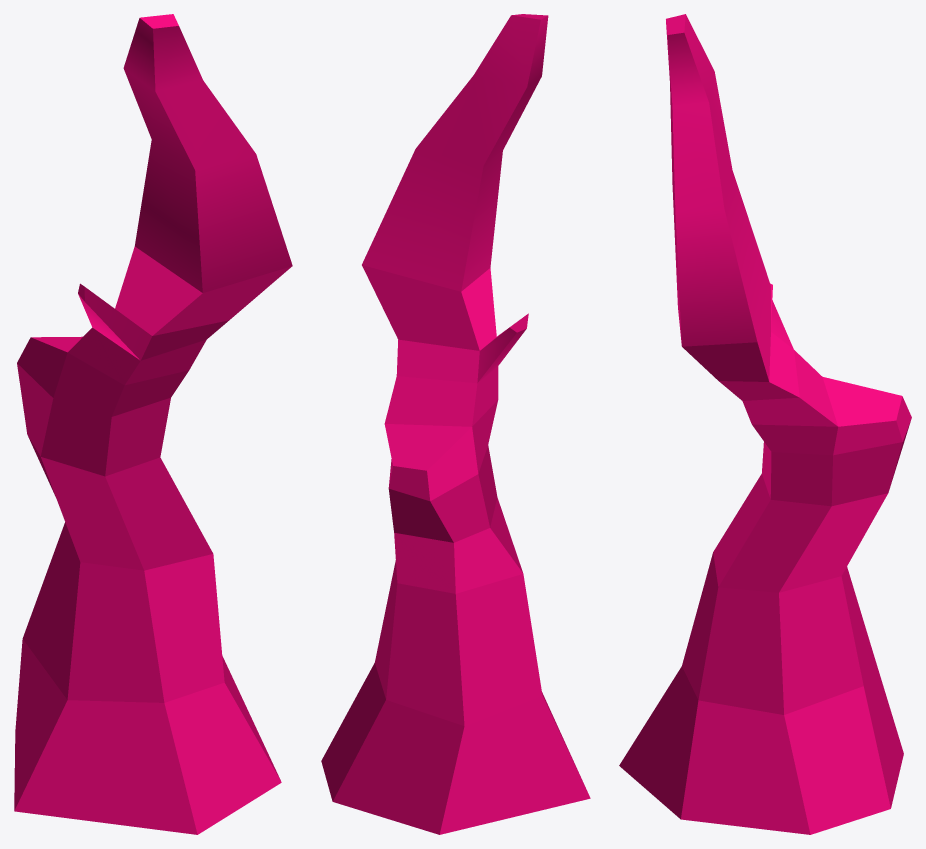
The model's file is SM_SS_Dead_Tree.fbx.
3 renders of one model, left to right at view 1: azimuth 30°, elevation 25°; view 2: azimuth 150°, elevation 25°; view 3: azimuth 270°, elevation 25°, orthographic. The views are drawn at different scales.
Parts seen in each view (by area): view 1: SM_SS_Dead_Tree; view 2: SM_SS_Dead_Tree; view 3: SM_SS_Dead_Tree.
Part boxes in pixels (bbox=[...]): SM_SS_Dead_Tree: bbox=[14, 14, 292, 834]; SM_SS_Dead_Tree: bbox=[321, 14, 590, 834]; SM_SS_Dead_Tree: bbox=[619, 14, 911, 834].
Bounding box in the file's own units: 50.28 × 52.41 × 147.
